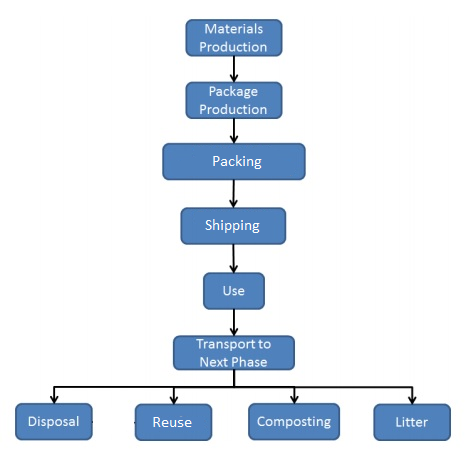arrow: (297, 383, 417, 404), (49, 384, 168, 403), (229, 370, 299, 402), (169, 372, 237, 403), (228, 243, 239, 274), (228, 179, 238, 208), (228, 56, 239, 82), (228, 307, 238, 335), (229, 117, 240, 142)
process: (160, 142, 308, 183), (173, 333, 295, 371), (178, 206, 288, 246), (183, 17, 285, 59), (184, 79, 285, 120), (247, 402, 342, 442), (12, 402, 95, 443), (133, 403, 214, 442), (372, 404, 453, 442), (202, 270, 265, 311)
text: (193, 337, 272, 369), (199, 22, 269, 54), (199, 85, 268, 117), (256, 415, 331, 432), (204, 216, 262, 235), (211, 154, 263, 171), (25, 415, 80, 431), (152, 415, 191, 431), (393, 416, 430, 430), (219, 283, 247, 297)
